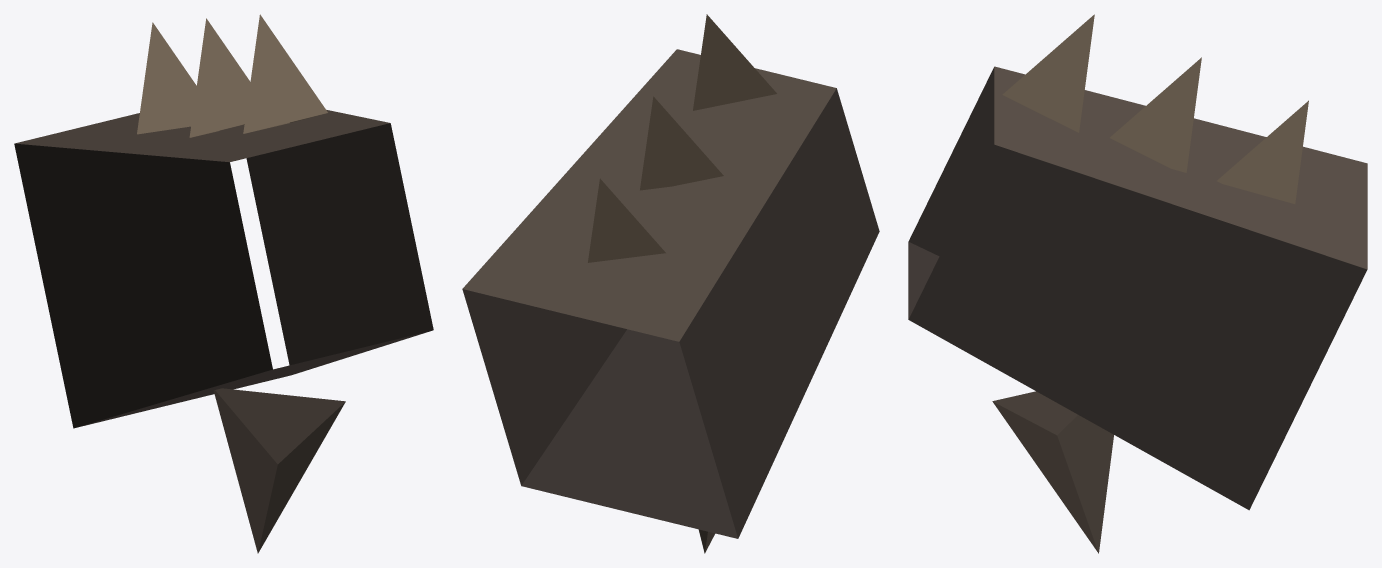
Rendered from moose_neck.obj.
3 views of the same model, side by side, from view 1: azimuth 30°, elevation 25°; view 2: azimuth 150°, elevation 25°; view 3: azimuth 270°, elevation 25° (orthographic).
Parts seen in each view (by area): view 1: moose_neck; view 2: moose_neck; view 3: moose_neck.
Part boxes in pixels (x1,y1,x2,y2): moose_neck: (14, 14, 433, 553); moose_neck: (462, 14, 879, 553); moose_neck: (908, 14, 1367, 553).
Size of the model in its own units: 1.9 by 4.51 by 3.47.
